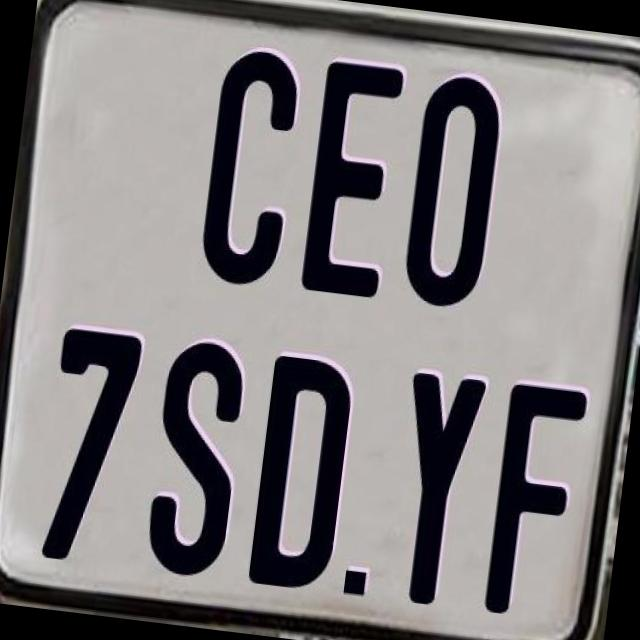0: (396, 66, 511, 306)
7: (32, 322, 146, 568)
C: (192, 47, 306, 298)
D: (247, 353, 362, 596)
E: (295, 59, 402, 306)
F: (482, 382, 590, 624)
S: (140, 333, 254, 582)
Y: (385, 367, 491, 613)
